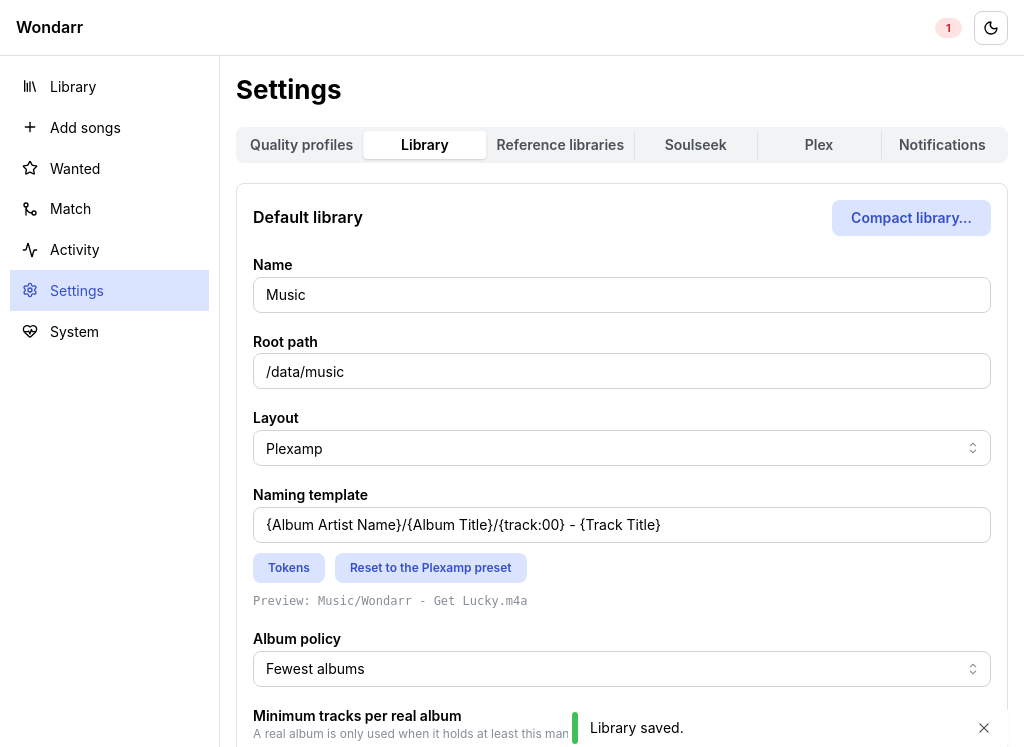
Test: LibrarySettingsPage › hides the minimum album size for every other policy
The image size is (1024, 747).
Expected: the field showing "Music" is shown, [253,277,991,313]
Click the dropdown labelled "Album policy": click(622, 669) [253,651,991,687]
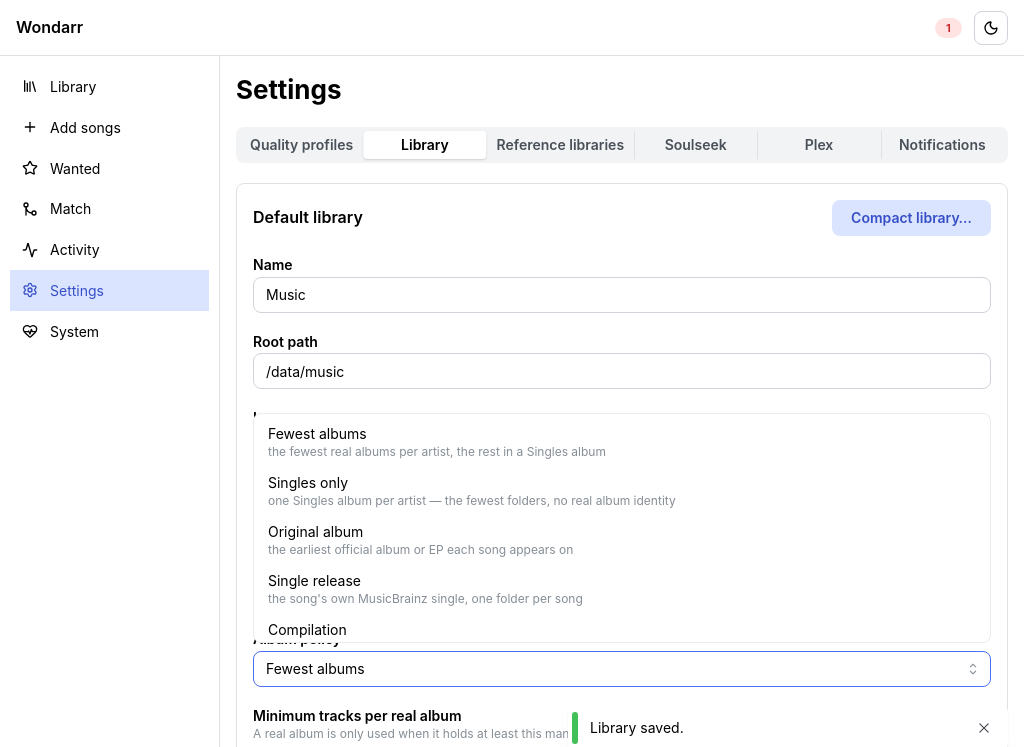
Click the text "Singles only": click(308, 482) [268,474,348,491]
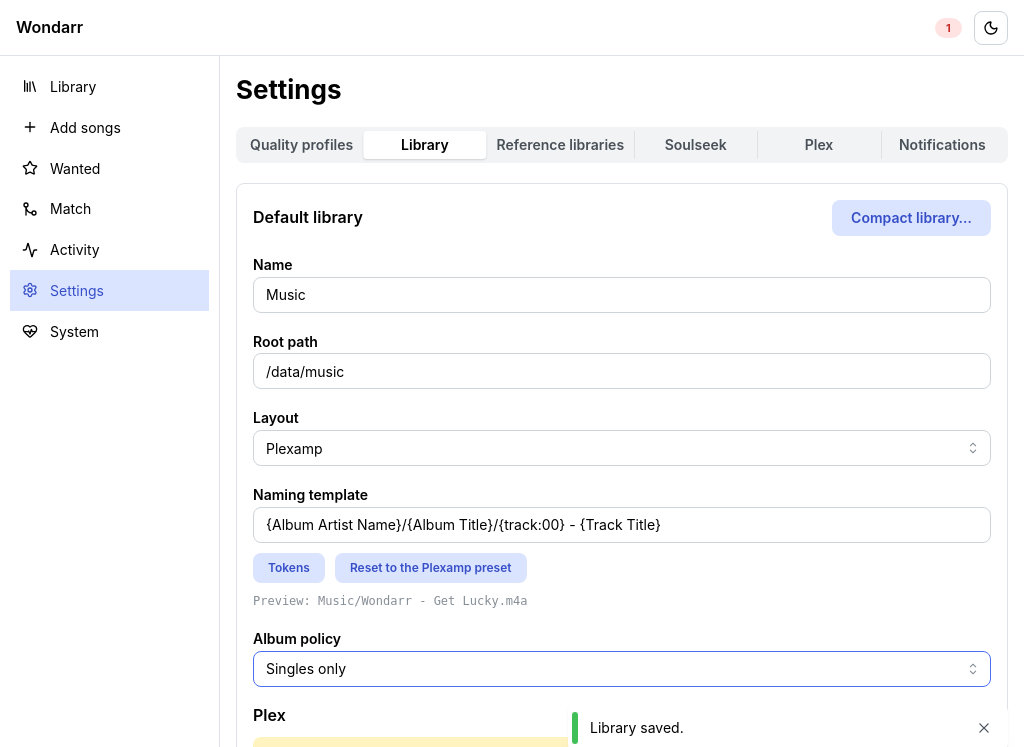
Now the label labelled "Minimum tracks per real album" is gone
